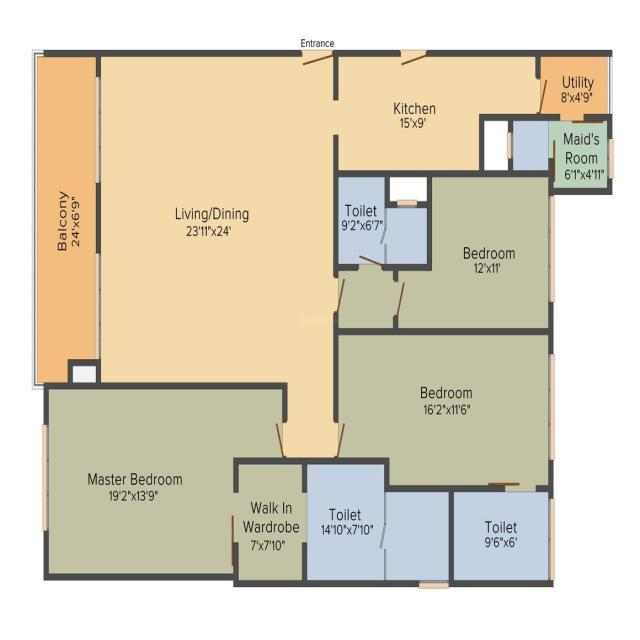Balcony-Sitout: (32, 50, 101, 384)
Bedroom: (339, 329, 551, 491), (395, 172, 552, 332), (550, 116, 615, 193)
Bedroom with Toilet: (42, 382, 287, 578)
Kitchen: (335, 50, 486, 173)
Living: (95, 54, 337, 387)
Toilet: (303, 461, 389, 586), (448, 488, 554, 589), (335, 172, 389, 269)
Utility: (536, 53, 610, 117)
